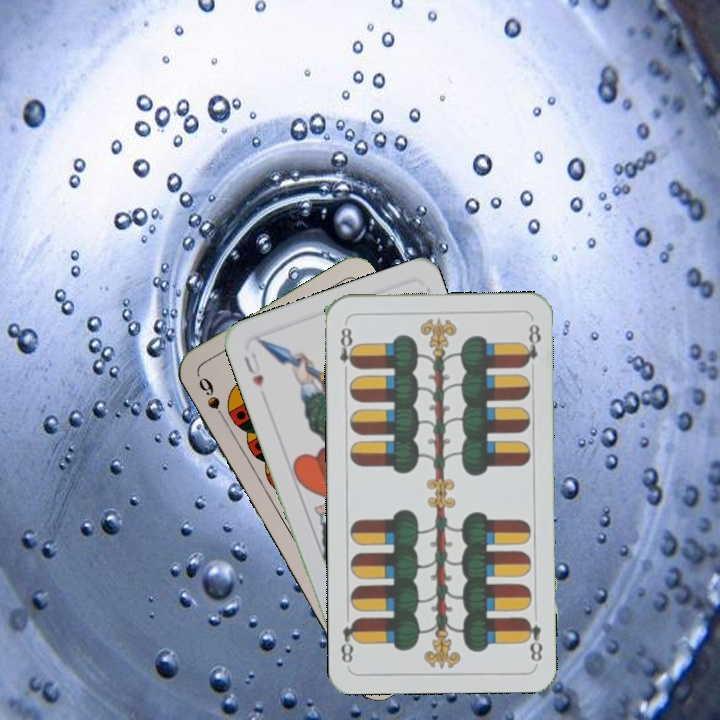E8: (336, 323, 359, 378), (520, 614, 545, 664)
HU: (240, 348, 266, 390)
S9: (194, 373, 231, 426)
